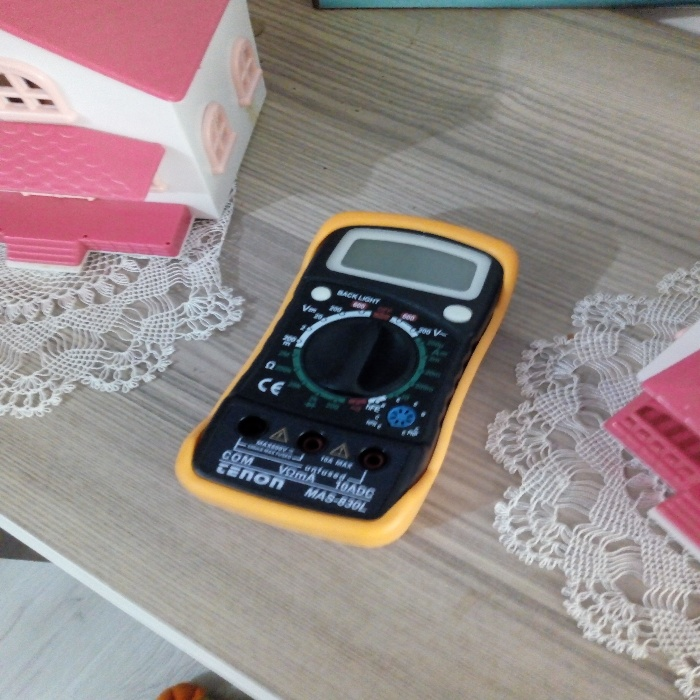multimetre: (152, 201, 565, 553)
